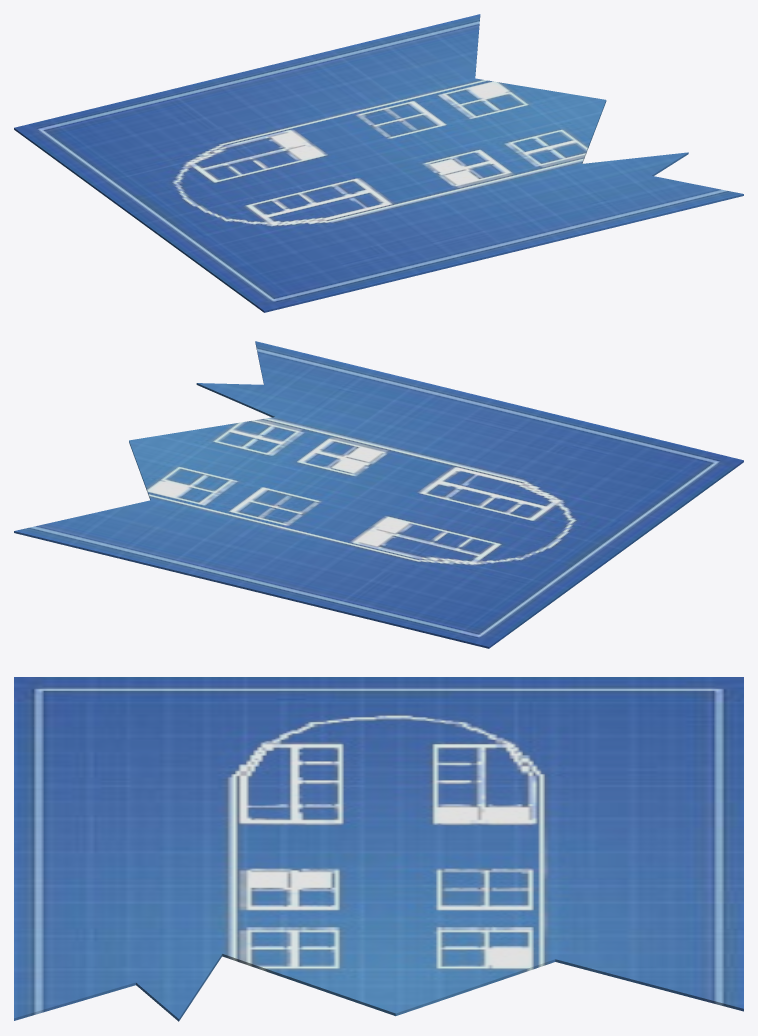
Rendered from sticker1.fbx.
The picture shows the model from 3 angles, top to bottom: view 1: azimuth 30°, elevation 25°; view 2: azimuth 150°, elevation 25°; view 3: azimuth 270°, elevation 25°; orthographic projection. The views are drawn at different scales.
Visible parts, largest first — view 1: sticker1; view 2: sticker1; view 3: sticker1.
Part boxes in pixels (x1,y1,x2,y2): sticker1: (14,14,743,312); sticker1: (14,341,743,648); sticker1: (14,677,743,1021).
Size of the model in its own units: 111 by 0.4113 by 100.
1 material, 1 textured.
